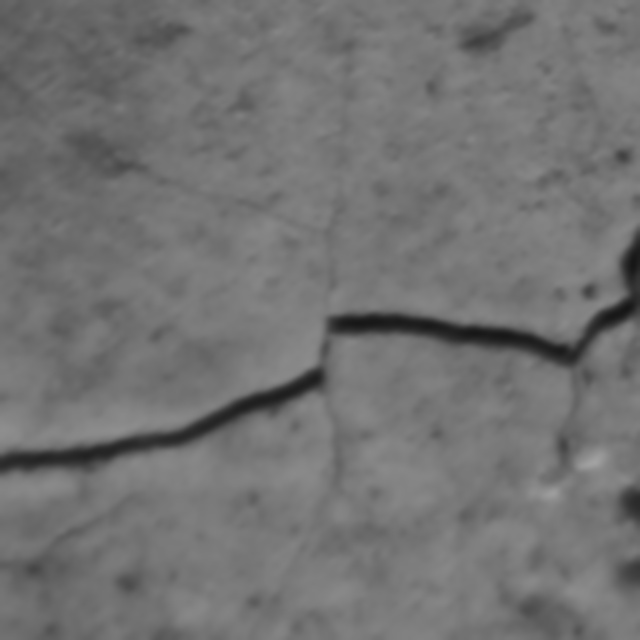SurfaceCrack: (1, 270, 640, 537)
